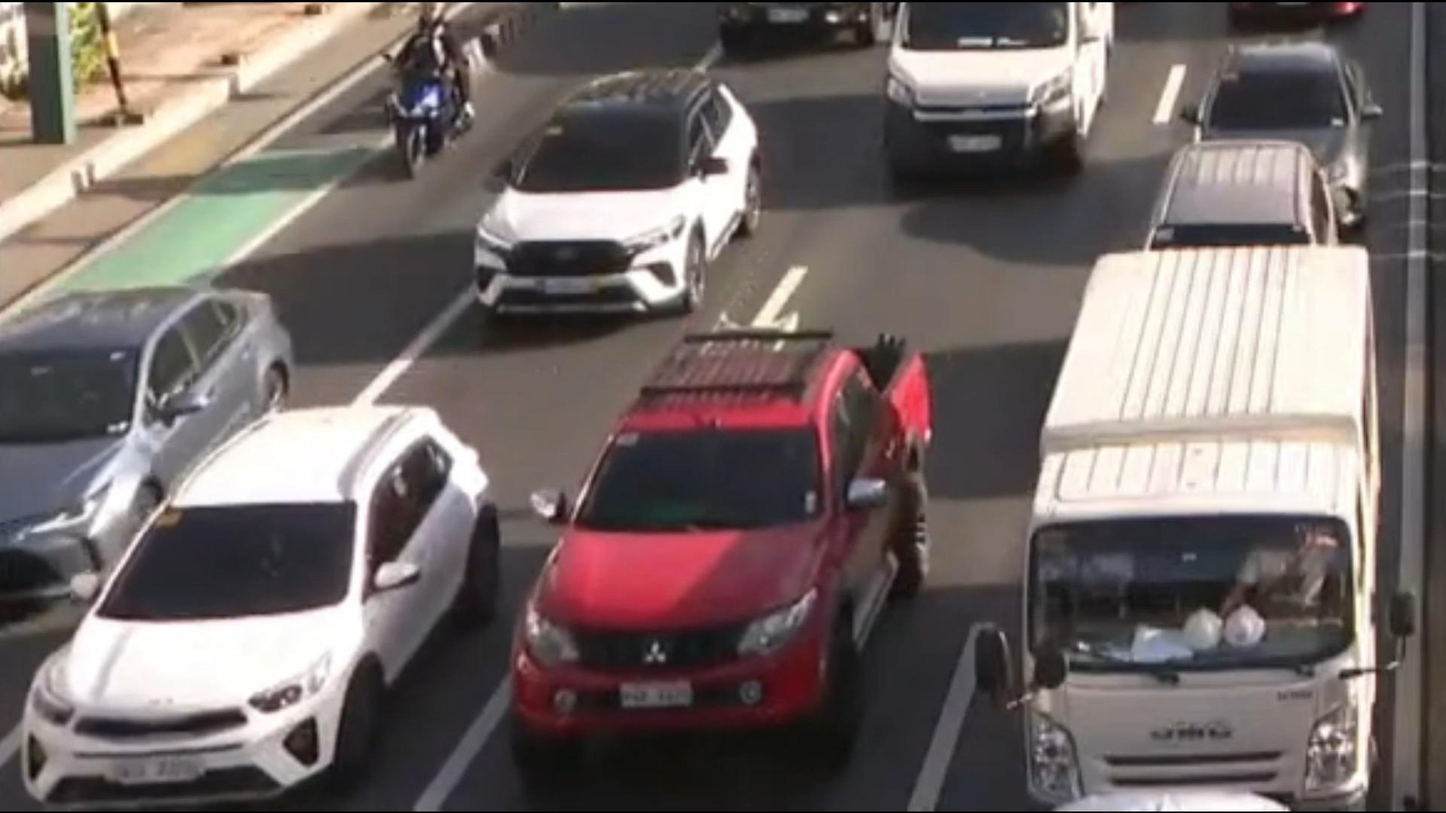Motorcycle: (378, 2, 476, 187)
Pickup: (507, 327, 934, 761)
SUV: (23, 402, 502, 813), (470, 68, 760, 320), (878, 1, 1110, 181), (1130, 134, 1350, 246)
Sedan: (0, 283, 294, 610), (1176, 41, 1387, 231)
Truck: (994, 251, 1413, 813)
